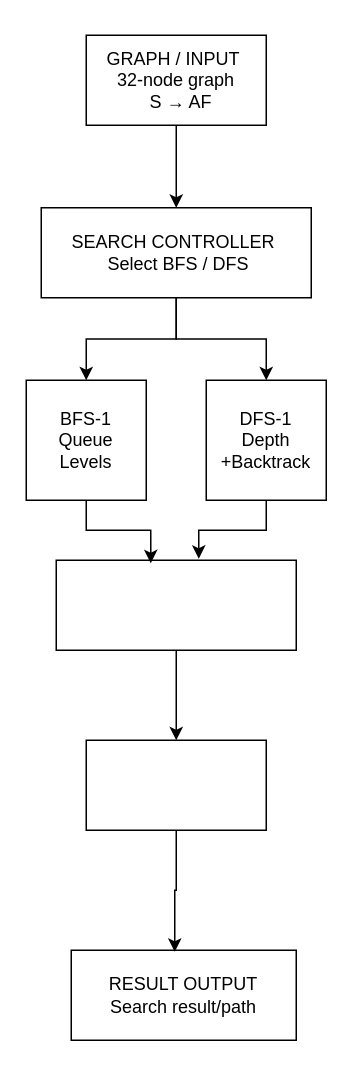
The diagram is 353 pixels wide and 1067 high, and some of its shapes have lost their labels. Here are the shapes that lost their labels. From the top down, the centre of each, then its label:
point 175,604: VISITED NODE TRACKING Prevents repeats
point 175,784: GOAL CHECK Is current node AF?
